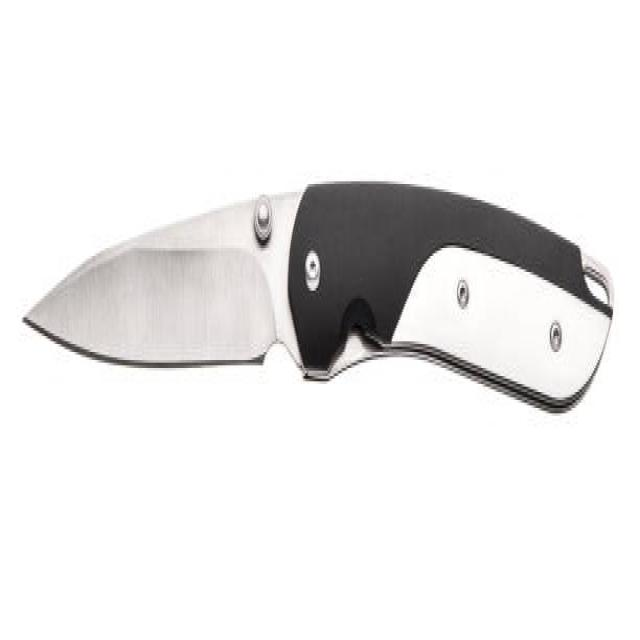knife: (18, 175, 622, 433)
